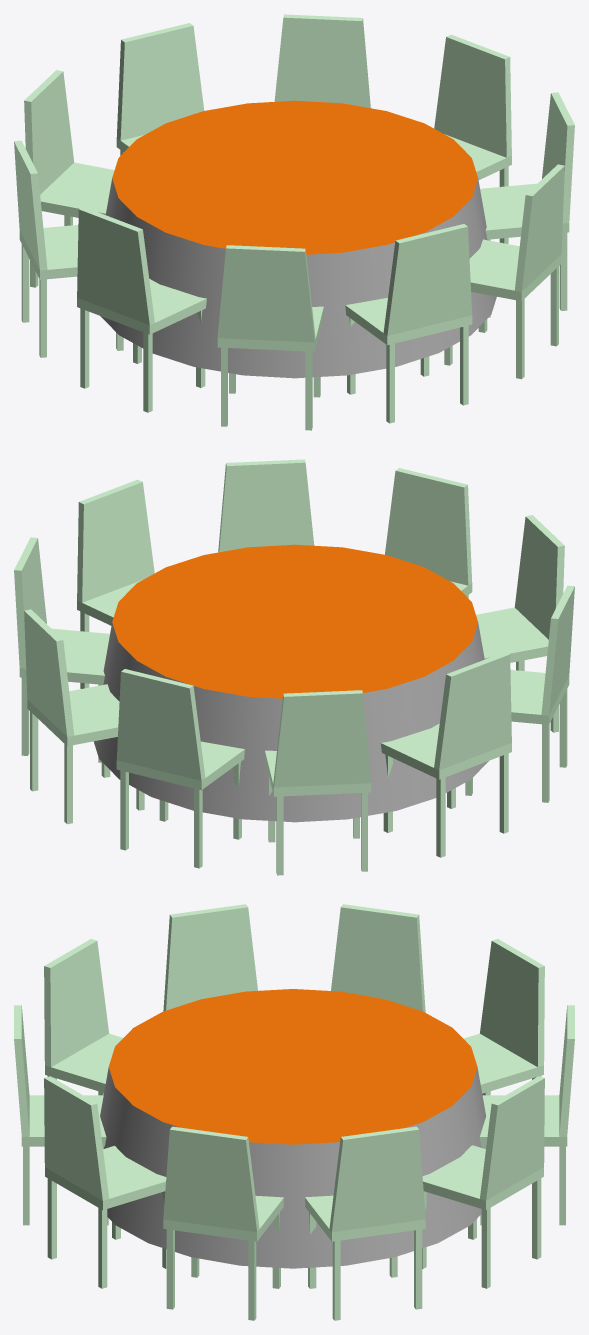
Rendered from Round Table.fbx.
The picture shows the model from 3 angles, top to bottom: view 1: azimuth 30°, elevation 25°; view 2: azimuth 150°, elevation 25°; view 3: azimuth 270°, elevation 25°; orthographic projection.
Visible parts, largest first — view 1: Empty_Mesh; view 2: Empty_Mesh; view 3: Empty_Mesh.
Part boxes in pixels (left/top/right/bottom): Empty_Mesh: left=14, top=14, right=574, bottom=430; Empty_Mesh: left=14, top=459, right=574, bottom=875; Empty_Mesh: left=14, top=904, right=574, bottom=1320.
Size of the model in its own units: 273 by 99.06 by 274.
